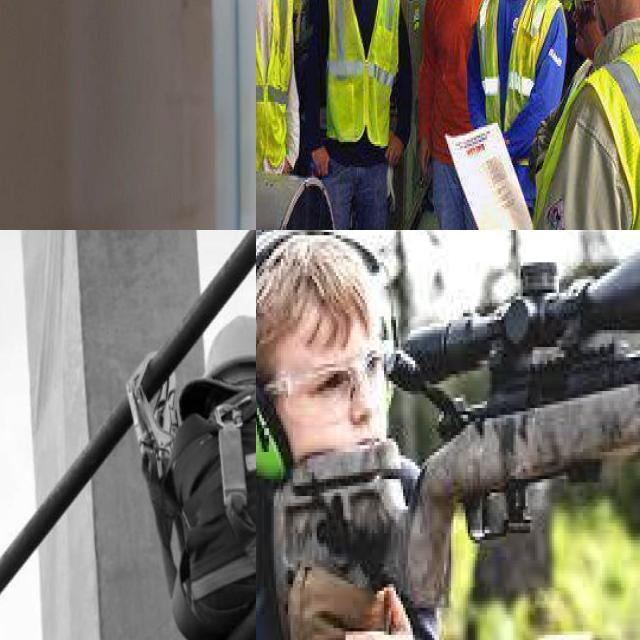Ear-protection: (256, 263, 409, 470)
Harness: (189, 399, 256, 600)
face_nomask: (570, 0, 640, 40)
person: (477, 0, 567, 230), (558, 0, 640, 230), (320, 0, 406, 198), (419, 0, 503, 192), (256, 0, 295, 194)
vest: (479, 0, 563, 209), (566, 36, 640, 230), (323, 0, 405, 156), (256, 0, 301, 186)
